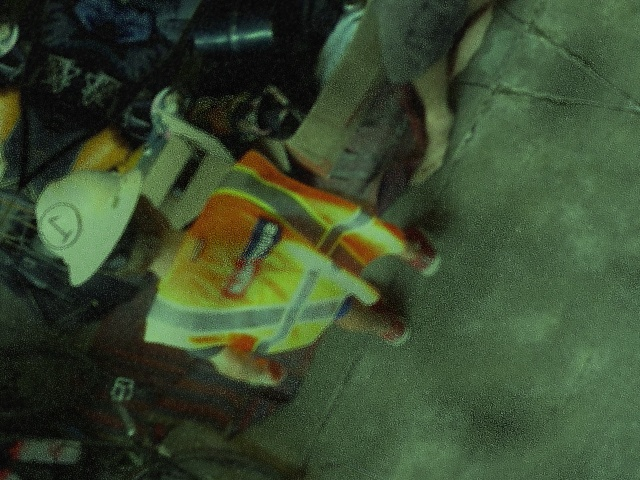one: (28, 197, 88, 253)
